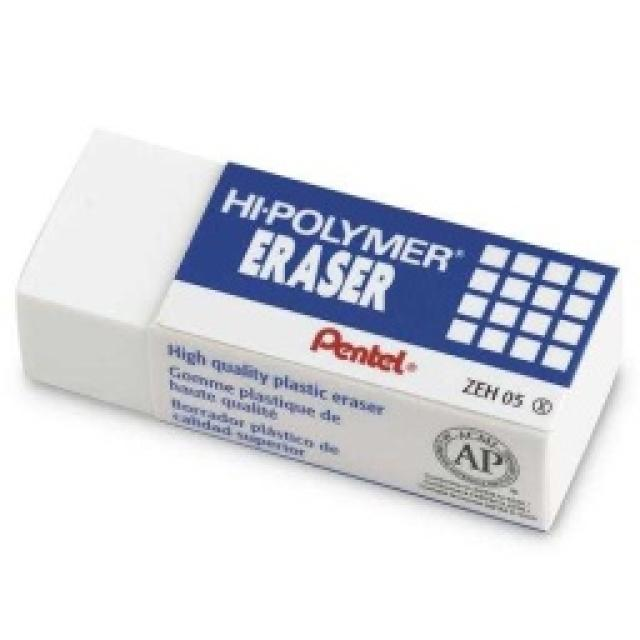Silgi: (13, 126, 628, 536)
